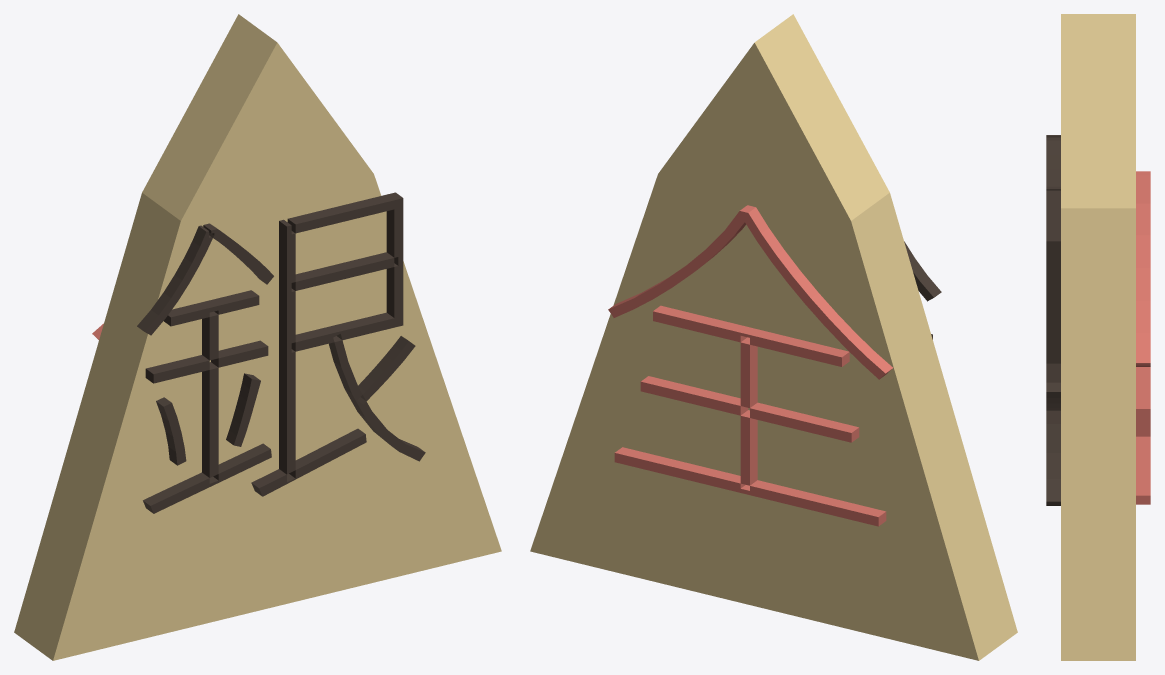
Rendered from koma-gin.glb.
3 renders of one model, left to right at view 1: azimuth 30°, elevation 25°; view 2: azimuth 150°, elevation 25°; view 3: azimuth 270°, elevation 25°, orthographic. The views are drawn at different scales.
Visible parts, largest first — view 1: world; view 2: world; view 3: world.
Part boxes in pixels (<box>): world: <box>14,14,501,660</box>; world: <box>530,14,1017,660</box>; world: <box>1046,14,1150,660</box>.
Size of the model in its own units: 2 by 2.4 by 0.42.
